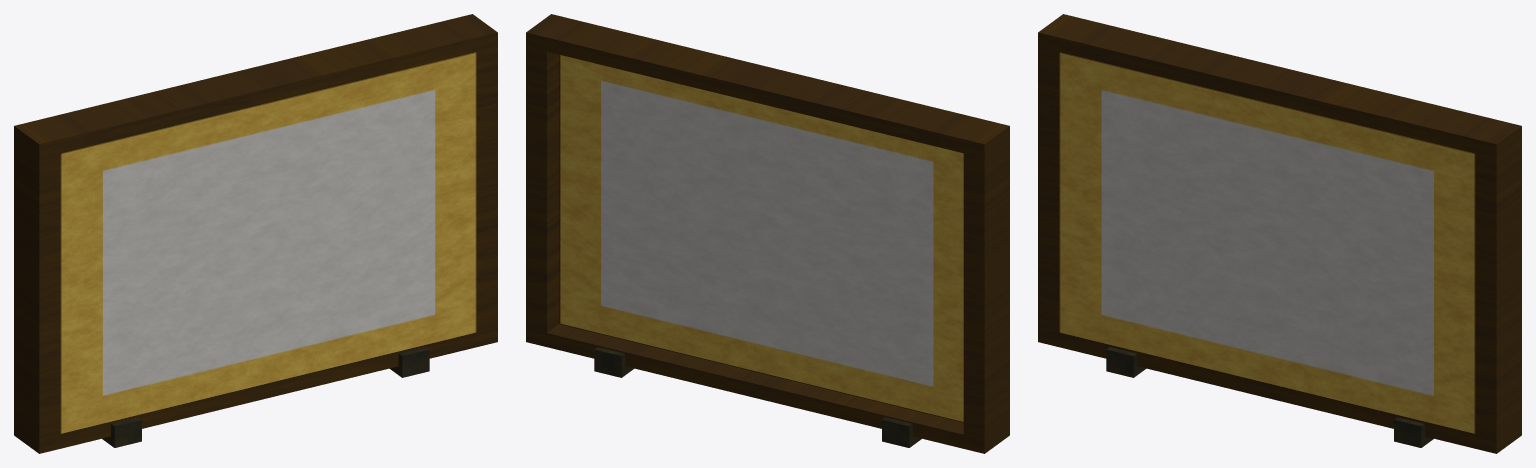
Rendered from frame.obj.
The picture shows the model from 3 angles, left to right: view 1: azimuth 30°, elevation 25°; view 2: azimuth 150°, elevation 25°; view 3: azimuth 330°, elevation 25°; orthographic projection.
Visible parts, largest first — view 1: 立方体.001; view 2: 立方体.001; view 3: 立方体.001.
Part boxes in pixels (x1,y1,x2,y2): 立方体.001: [14, 14, 497, 453]; 立方体.001: [526, 14, 1009, 453]; 立方体.001: [1038, 14, 1521, 453].
Bounding box in the file's own units: 4.1 × 2.72 × 0.5007.
Materials: 2 (2 with a texture image).
